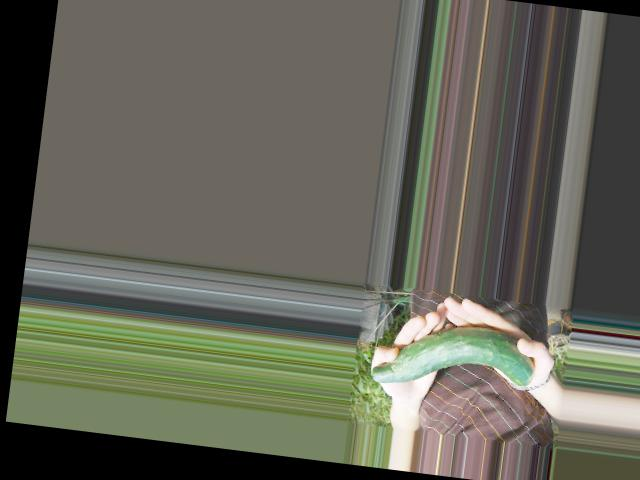cucumber: (371, 314, 539, 401)
